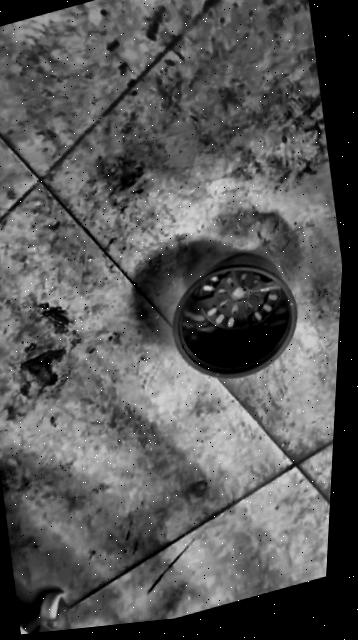pot: (160, 237, 309, 394)
